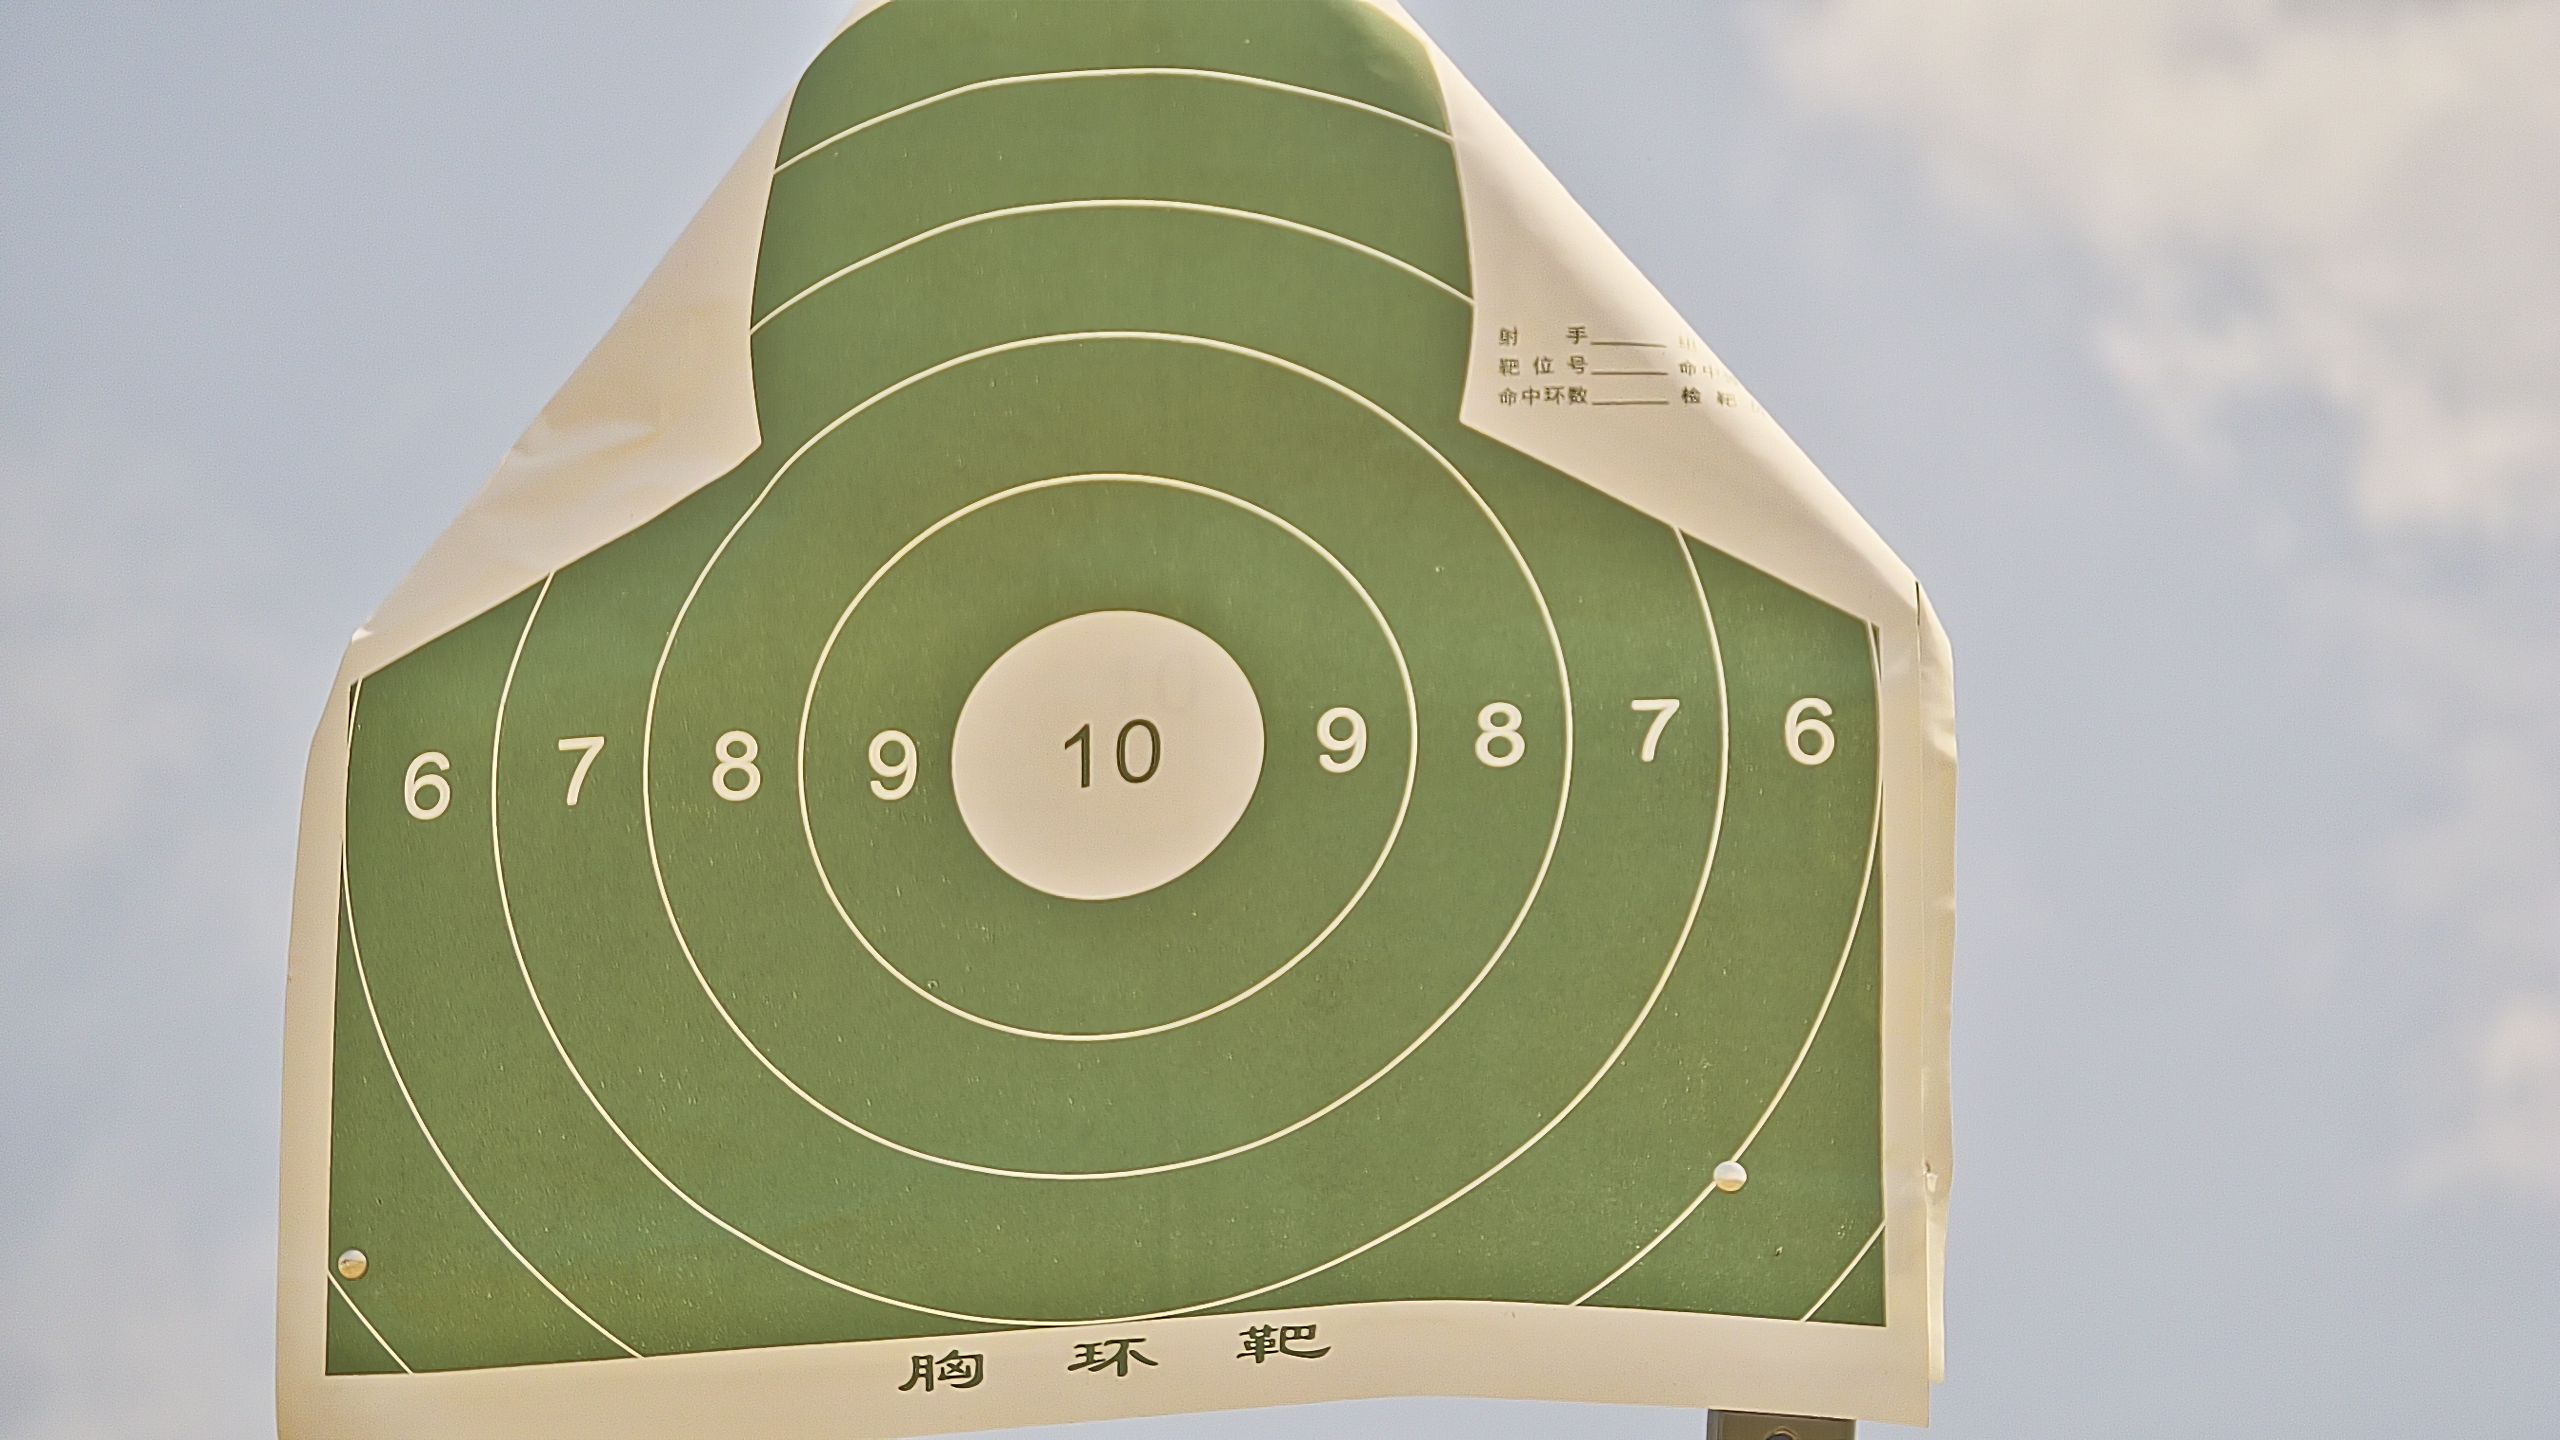kernel: (1102, 754, 1104, 758)
target: (316, 2, 1895, 1378)
ten: (944, 607, 1268, 902)
